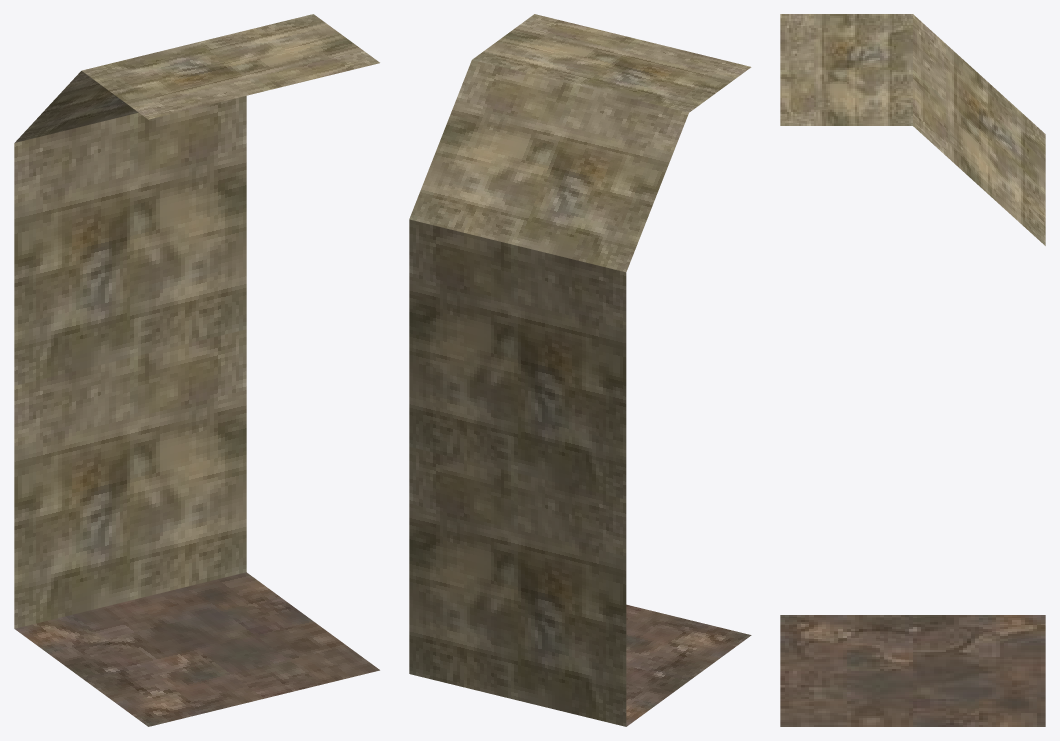
The model's file is wall.glb.
3 renders of one model, left to right at view 1: azimuth 30°, elevation 25°; view 2: azimuth 150°, elevation 25°; view 3: azimuth 270°, elevation 25°, orthographic. The views are drawn at different scales.
Visible parts, largest first — view 1: wall-col; view 2: wall-col; view 3: wall-col.
Part boxes in pixels (x1,y1,x2,y2): wall-col: (14, 14, 379, 726); wall-col: (409, 14, 751, 726); wall-col: (780, 14, 1045, 726).
Bounding box in the file's own units: 1 × 2.5 × 1.
Materials: 1 (1 with a texture image).
